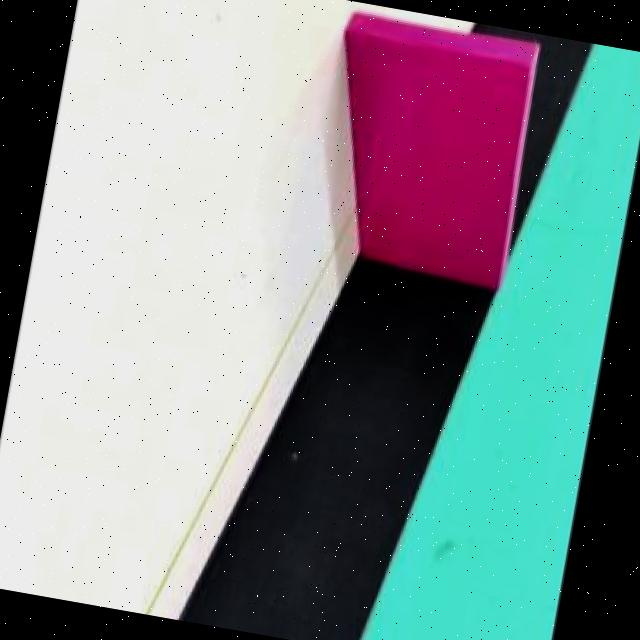xparking: (302, 26, 534, 279)
